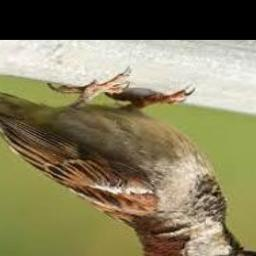Sparrow: (0, 68, 256, 256)
